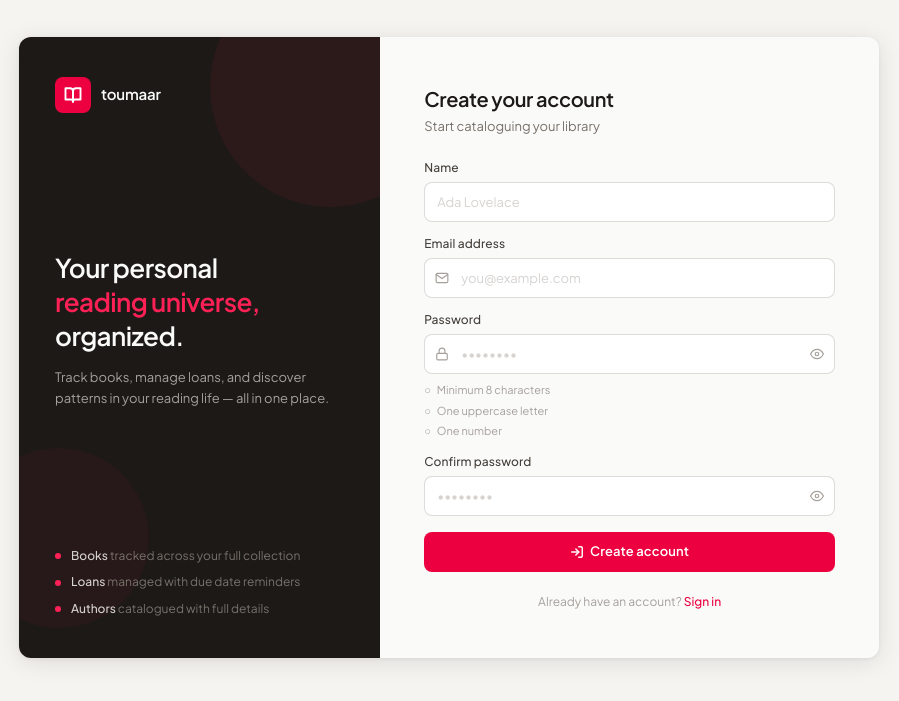
SignupPage › shows an error when the password does not meet the requirements
Type "Ada" into the field labelled "Name" at (630, 202), box [424,182,835,222]
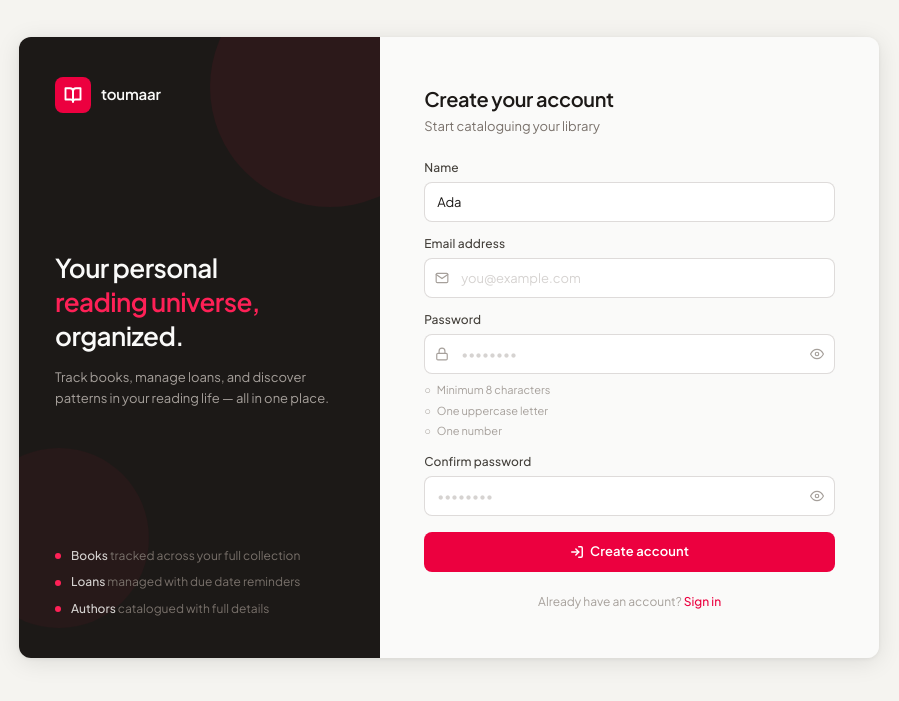
Type "ada@example.com" into the field labelled "Email address" at (630, 278), box [424,258,835,298]
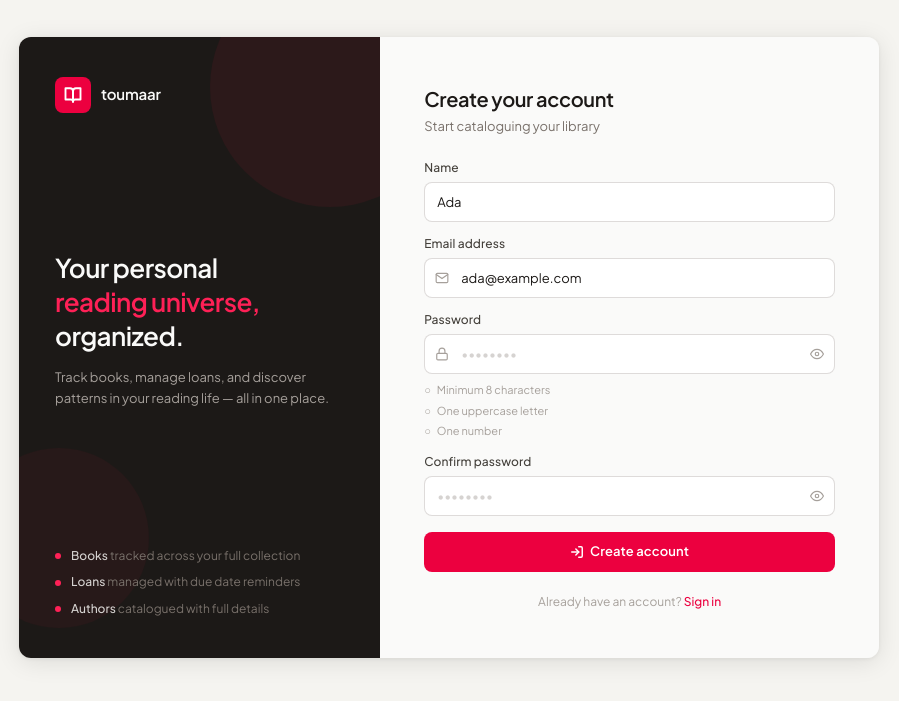
Type "weak" into the password field labelled "Password" at (630, 354), box [424,334,835,374]
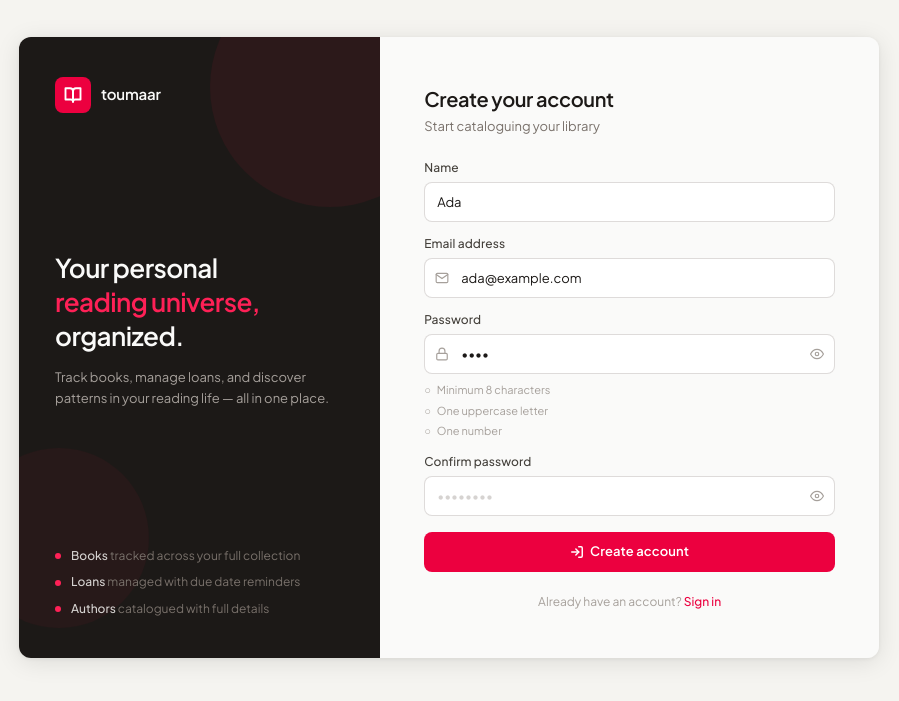
Type "weak" into the password field labelled "Confirm password" at (630, 496), box [424,476,835,516]
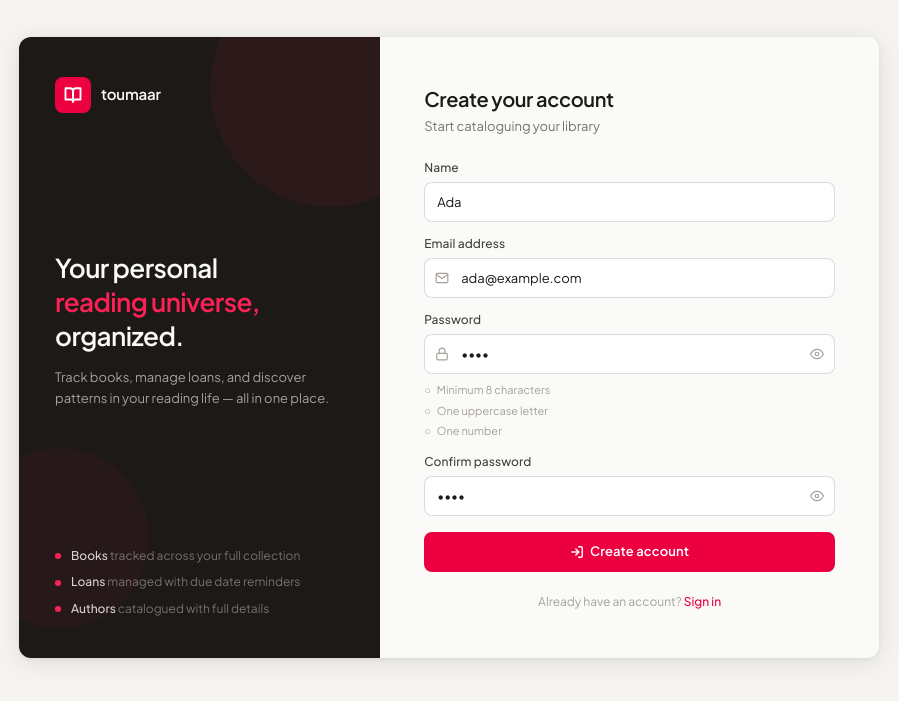
Click the button "Create account" at (630, 552), box [424,532,835,572]
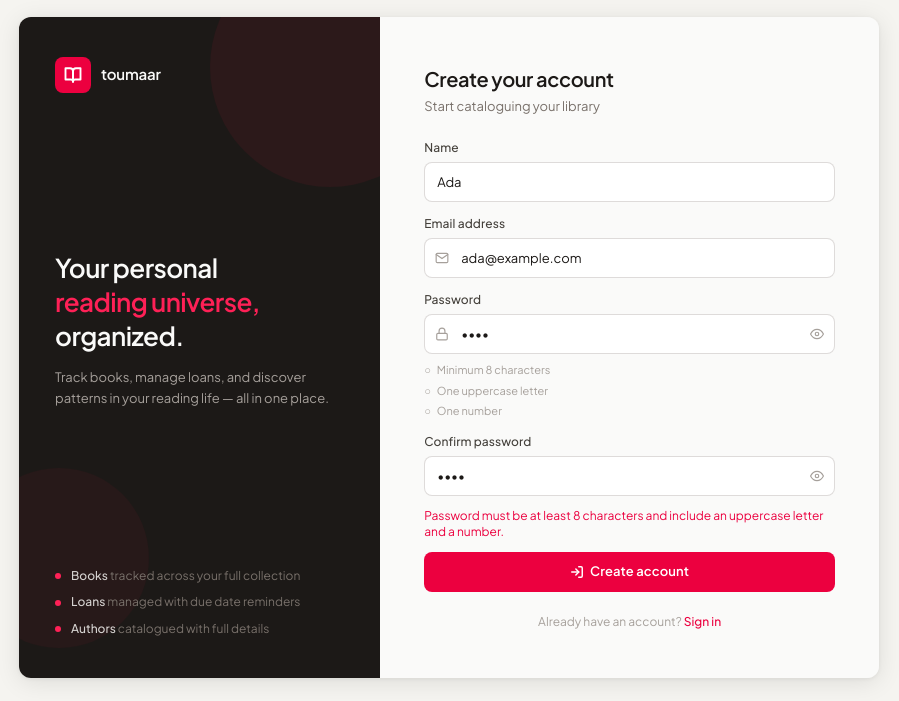
Result: the text "at least 8 characters" is shown at [424,508,823,538]
